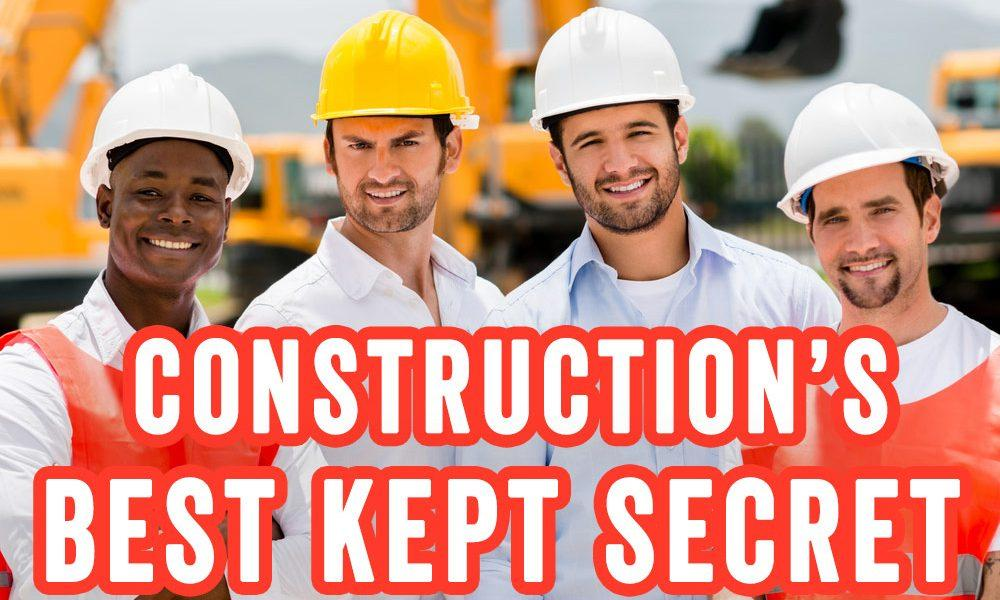helmet: (779, 83, 963, 229), (79, 64, 258, 203), (529, 6, 695, 134), (311, 9, 475, 129)
